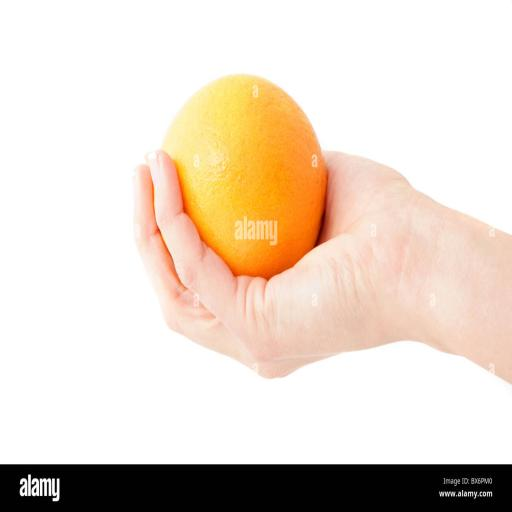orange: (162, 75, 326, 278)
